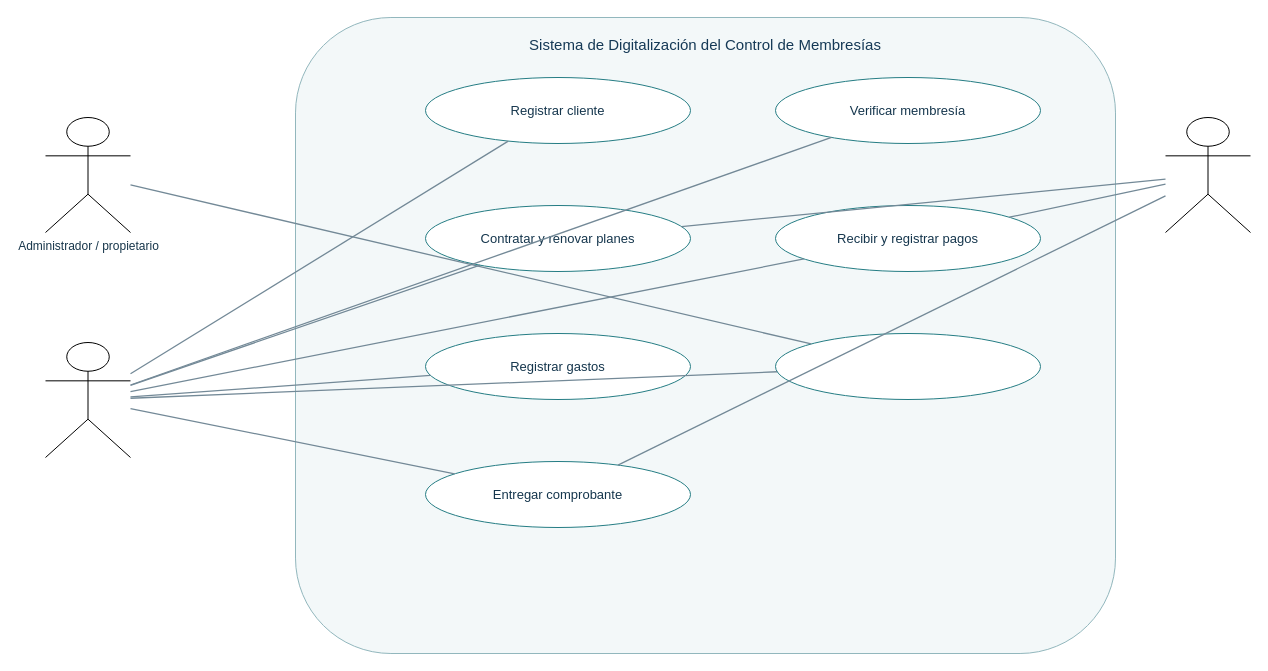
Some shapes in this 1268 by 671 pixel diagram are drawn without their labels. The shapes that lost their labels are listed below. From the top down, each one's box as (x1, y1, x2, y2) in pixels, then its label:
(1164, 116, 1250, 232): Cliente
(774, 332, 1040, 400): Cerrar jornada
(44, 342, 130, 458): Recepcionista
